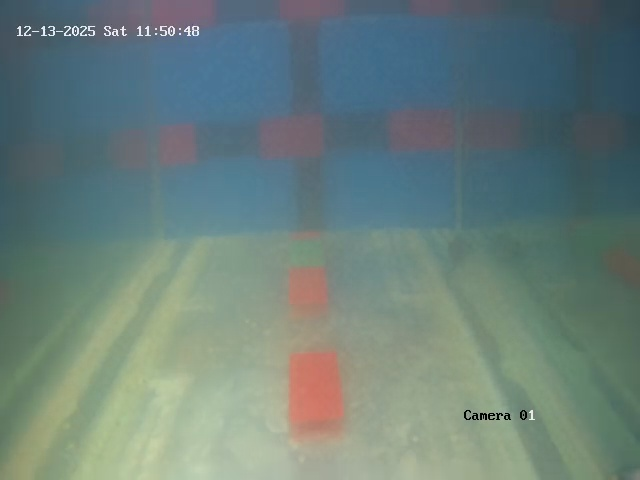fish: (426, 226, 491, 281)
